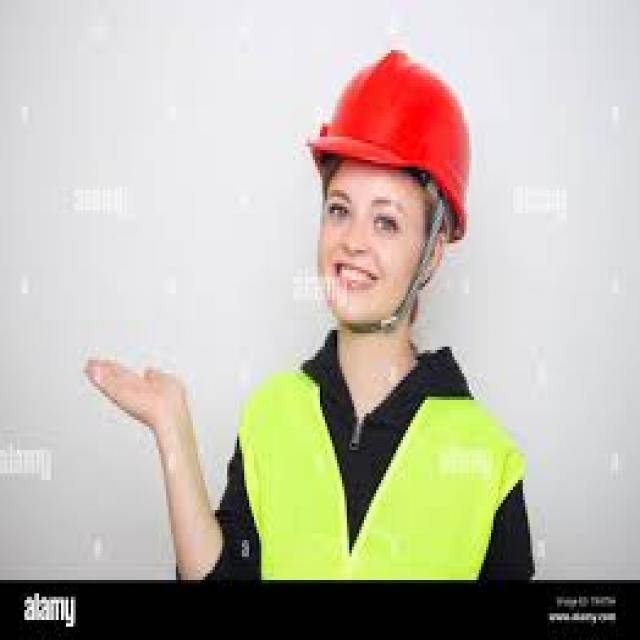Reflective-Jacket: (232, 347, 545, 583)
Safety-Helmet: (303, 43, 484, 237)
